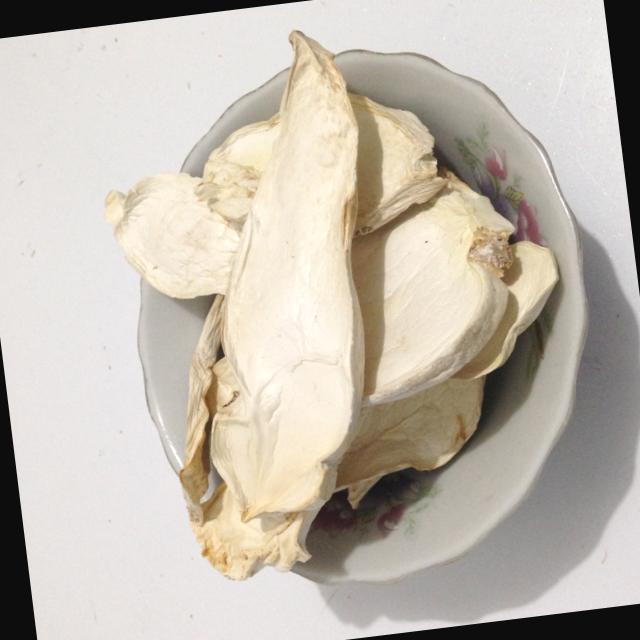Pleurotus eryngii: (85, 2, 591, 589)
